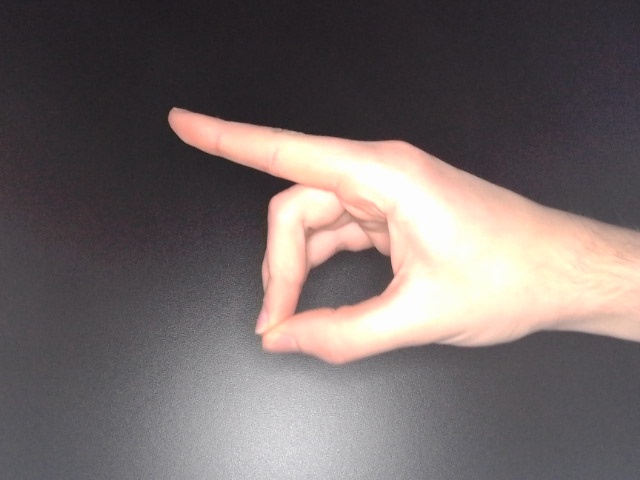p: (165, 103, 608, 370)
